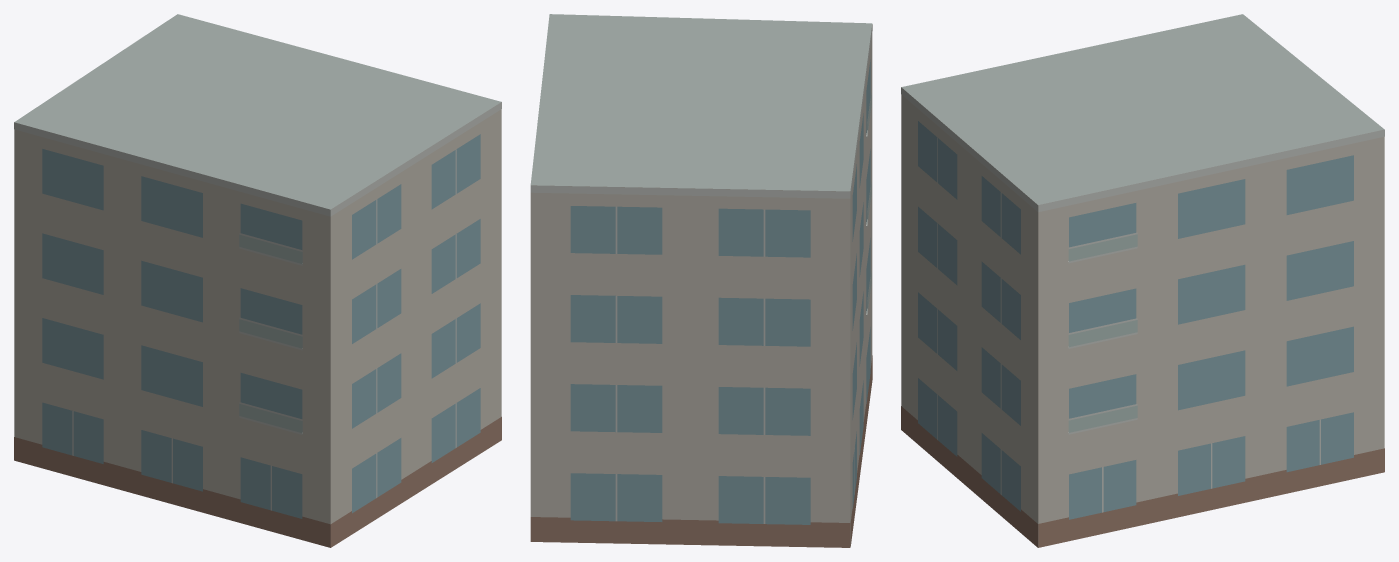
The model's file is survey-upis-32741623.glb.
The picture shows the model from 3 angles, left to right: view 1: azimuth 30°, elevation 25°; view 2: azimuth 150°, elevation 25°; view 3: azimuth 270°, elevation 25°; orthographic projection. The views are drawn at different scales.
Visible parts, largest first — view 1: survey-upis-32741623.tmp; view 2: survey-upis-32741623.tmp; view 3: survey-upis-32741623.tmp.
Part boxes in pixels (x1=…): survey-upis-32741623.tmp: x1=14, y1=14, x2=501, y2=547; survey-upis-32741623.tmp: x1=530, y1=14, x2=872, y2=547; survey-upis-32741623.tmp: x1=901, y1=14, x2=1384, y2=547.
Bounding box in the file's own units: 14 × 11.7 × 14.97.
